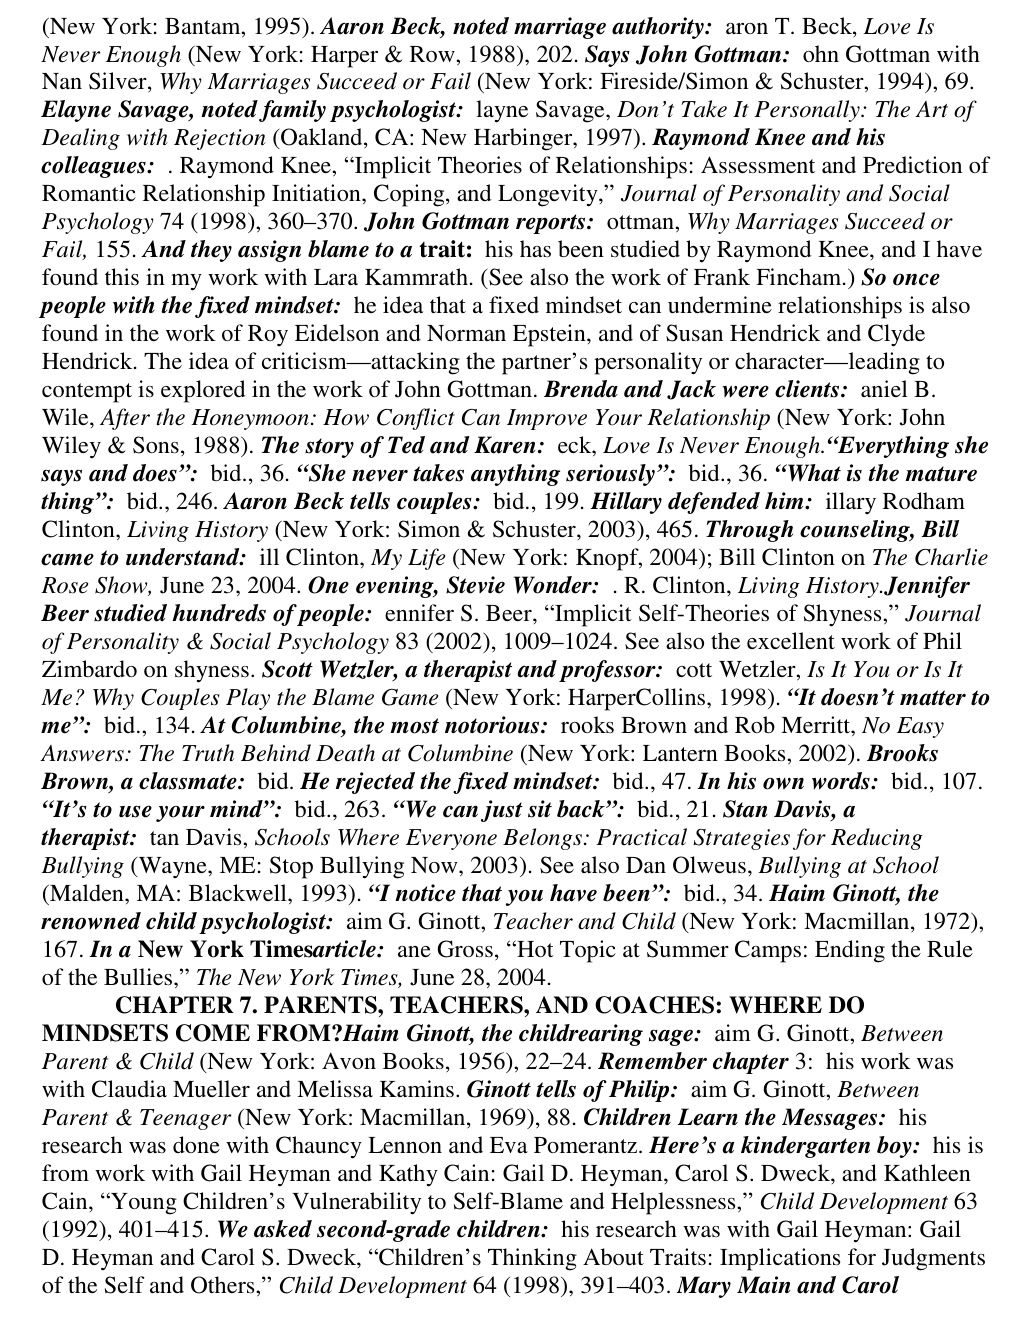latin: (30, 317, 1004, 710), (34, 14, 991, 317), (23, 710, 993, 986), (40, 986, 986, 1162), (31, 1161, 993, 1302)
